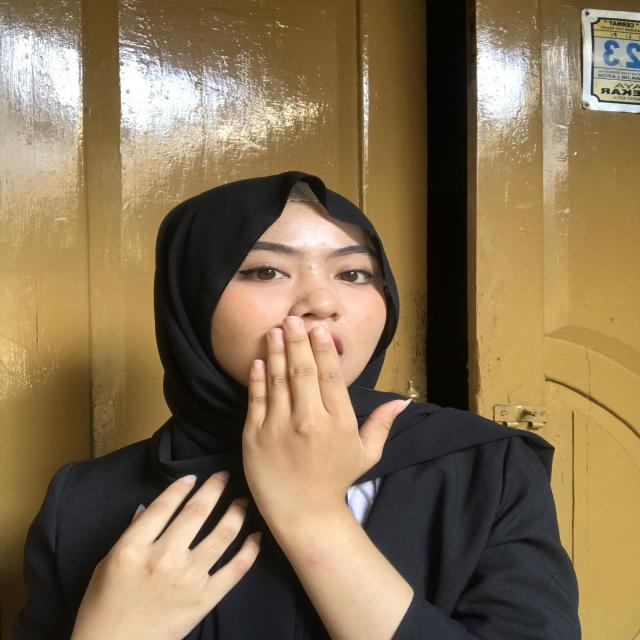ngantuk: (215, 311, 422, 557)
